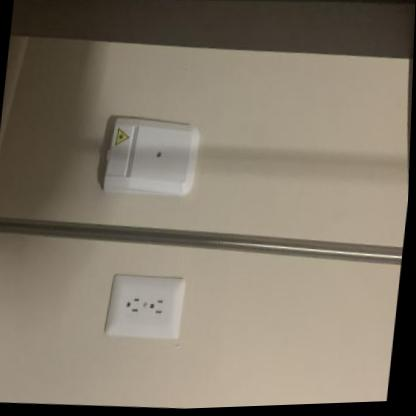OUTLET: (109, 274, 187, 342)
